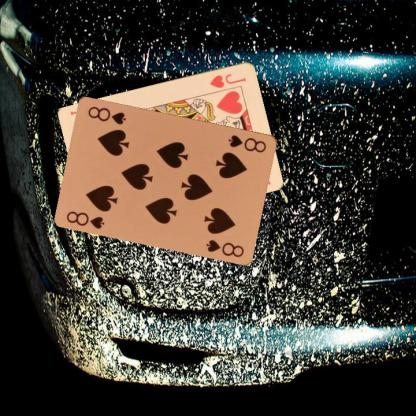8s: (226, 132, 268, 154), (64, 208, 106, 230)
Jh: (208, 70, 248, 89)
